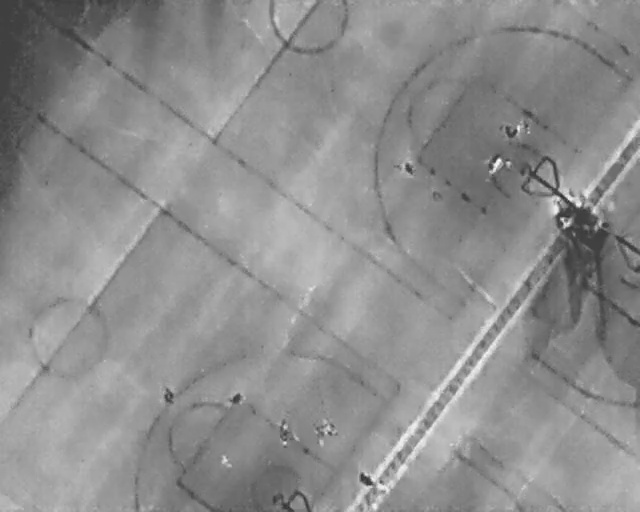Person: (309, 414, 341, 445), (481, 151, 507, 180), (353, 467, 377, 489), (276, 417, 292, 448), (226, 389, 246, 408), (400, 159, 417, 178), (373, 477, 389, 496), (162, 385, 174, 406), (505, 123, 520, 138), (520, 118, 532, 136)
